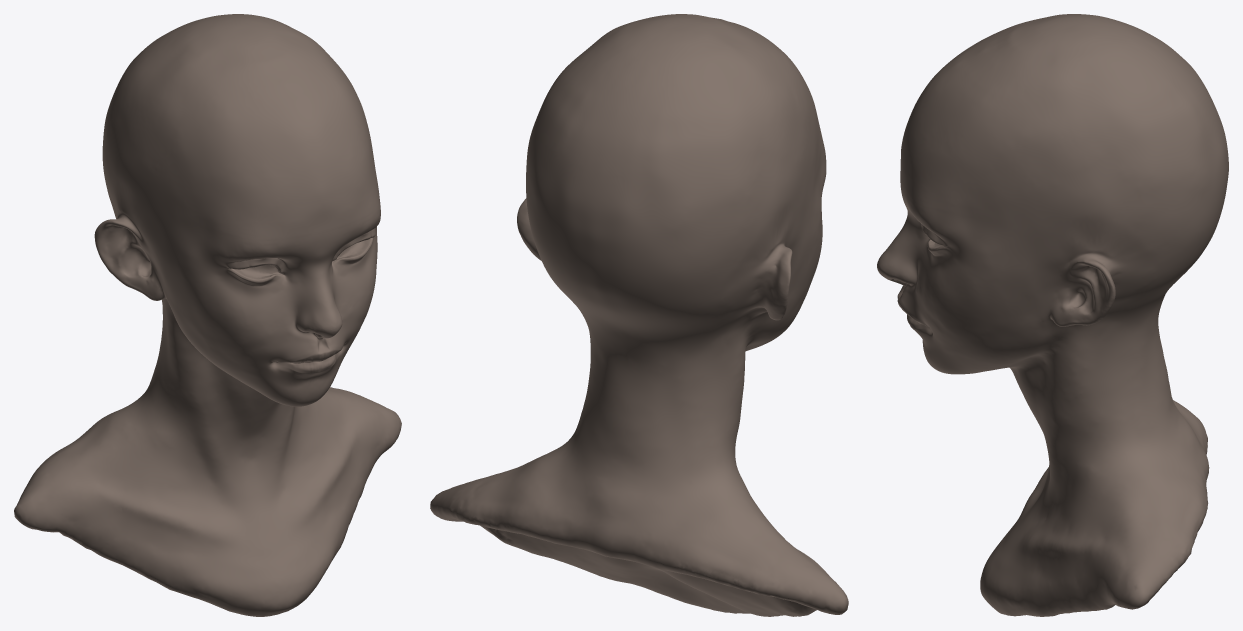
File: bust.glb
The picture shows the model from 3 angles, left to right: view 1: azimuth 30°, elevation 25°; view 2: azimuth 150°, elevation 25°; view 3: azimuth 270°, elevation 25°; orthographic projection. The views are drawn at different scales.
Visible parts, largest first — view 1: head; view 2: head; view 3: head.
Part boxes in pixels (box(x1,y1,x2,y2)): head: box(14, 14, 401, 616); head: box(430, 14, 848, 616); head: box(877, 14, 1228, 616).
Bounding box in the file's own units: 3 × 4.18 × 2.3.
